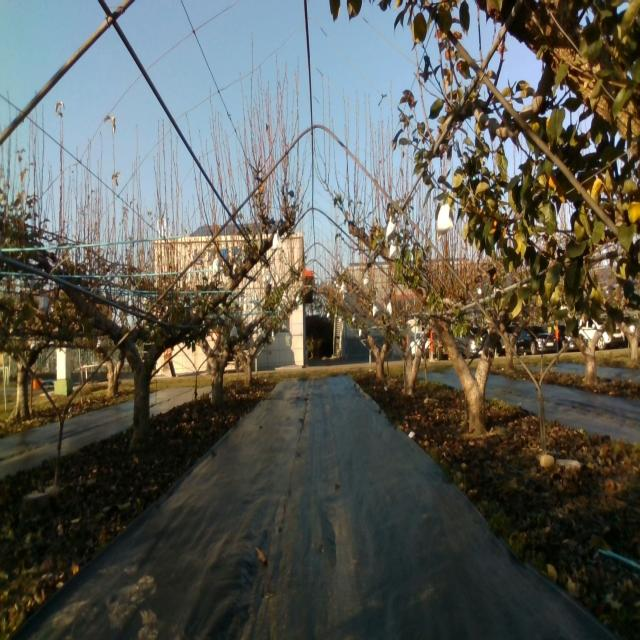pearbags: (436, 202, 455, 237), (385, 214, 396, 242), (212, 256, 223, 278), (389, 241, 401, 261), (272, 229, 282, 249)
